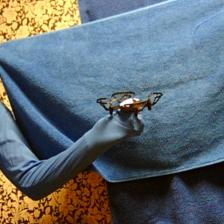drone: (96, 90, 162, 119)
